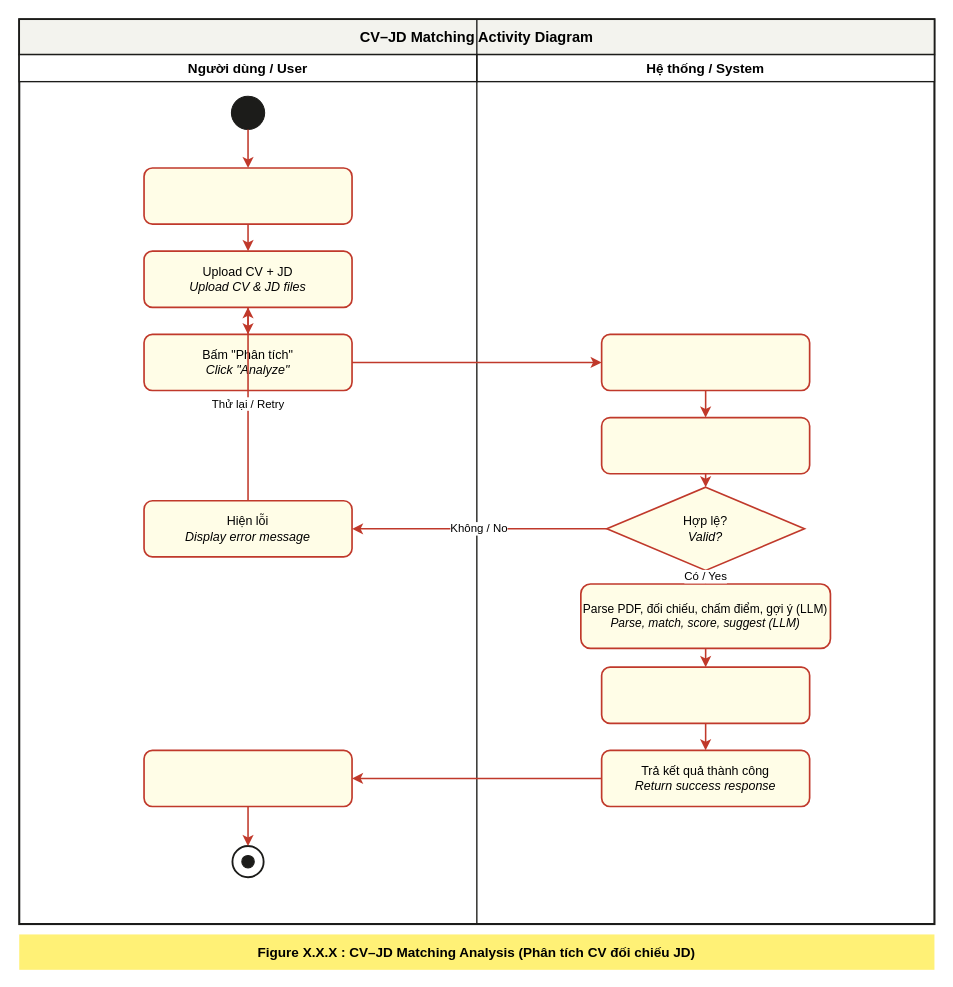
The diagram is 953 pixels wide and 987 high, and some of its shapes have lost their labels. The shapes that lost their labels are listed below. From the top down, each one's centre as x and y in pixels, then its label:
At (x=247, y=195): "Mở trang Phân tích CV Open CV Analysis page".
At (x=705, y=362): "Nhận yêu cầu phân tích Receive analyze request".
At (x=705, y=445): "Kiểm tra đăng nhập & quota Check login & quota".
At (x=705, y=695): "Lưu kết quả vào MongoDB Save result to MongoDB".
At (x=247, y=778): "Hiển thị kết quả Display result".
